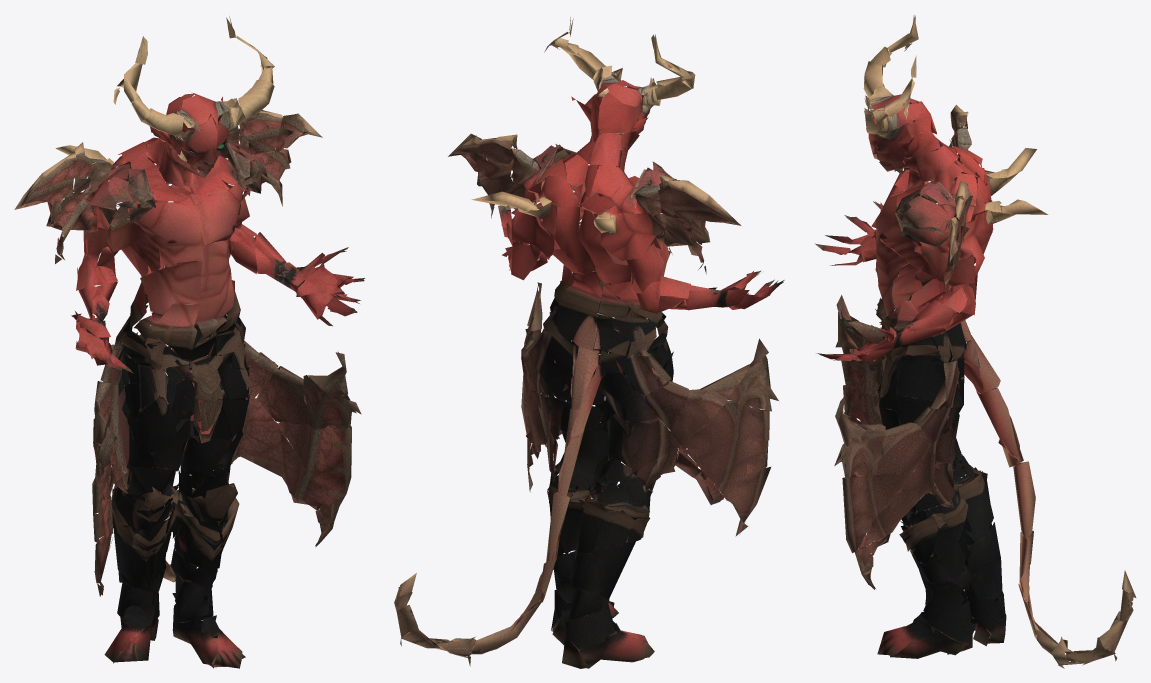
File: baron.glb
The picture shows the model from 3 angles, left to right: view 1: azimuth 30°, elevation 25°; view 2: azimuth 150°, elevation 25°; view 3: azimuth 270°, elevation 25°; orthographic projection. The views are drawn at different scales.
Visible parts, largest first — view 1: Mesh_0; view 2: Mesh_0; view 3: Mesh_0.
Part boxes in pixels (x1,y1,x2,y2): Mesh_0: (14, 16, 364, 668); Mesh_0: (394, 17, 784, 668); Mesh_0: (815, 15, 1136, 668).
Bounding box in the file's own units: 0.9619 × 1.91 × 0.9132.
1 material, 1 textured.
